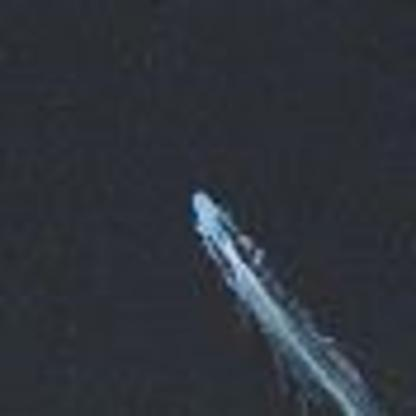ship: (183, 177, 227, 242)
